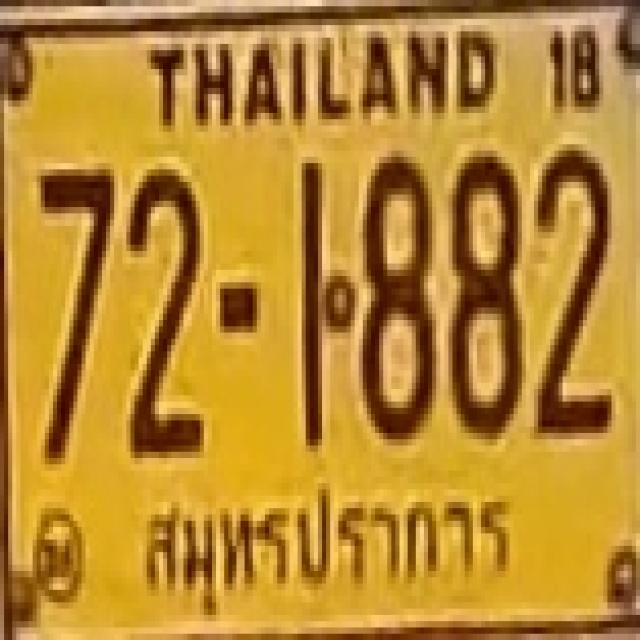2: (124, 166, 205, 458), (532, 141, 609, 430)
7: (36, 162, 114, 463)
8: (360, 152, 438, 440), (448, 152, 523, 440)
SPK: (141, 475, 518, 609)
